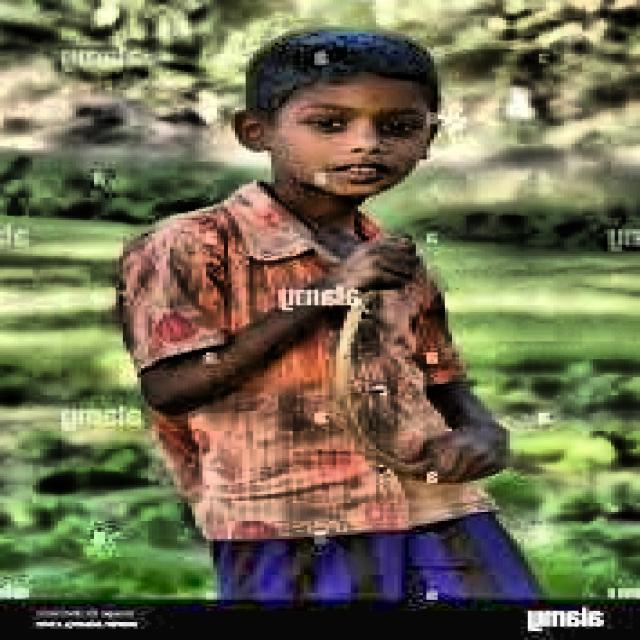Human: (97, 18, 574, 618)
